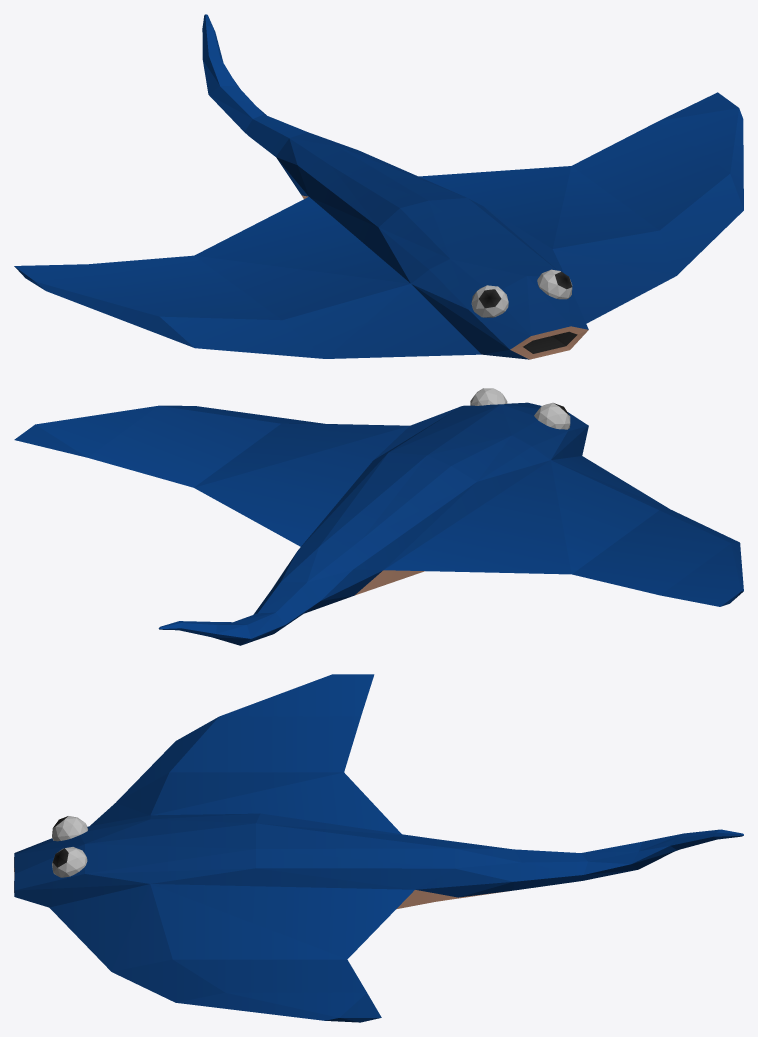
File: ray.glb
3 renders of one model, top to bottom at view 1: azimuth 30°, elevation 25°; view 2: azimuth 150°, elevation 25°; view 3: azimuth 270°, elevation 25°, orthographic.
Parts seen in each view (by area): view 1: ray_merged; view 2: ray_merged; view 3: ray_merged.
Boxes of the visible parts, x1=… form: ray_merged: x1=14, y1=14, x2=743, y2=359; ray_merged: x1=14, y1=388, x2=743, y2=645; ray_merged: x1=14, y1=674, x2=743, y2=1022.
Bounding box in the file's own units: 22.24 × 2.62 × 20.08.
Materials: 3 (3 with a texture image).
